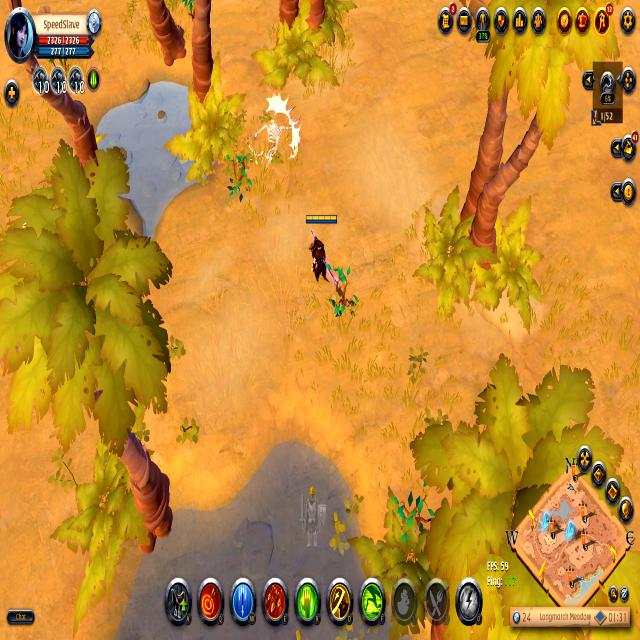red: (304, 210, 336, 286)
